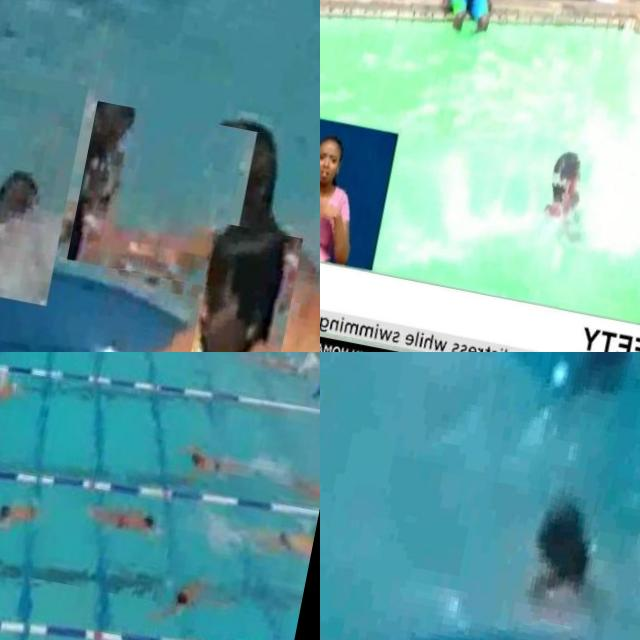drowning: (496, 454, 640, 640), (0, 46, 88, 308), (526, 139, 608, 257)
out of water: (432, 0, 514, 38)
swimming: (64, 100, 255, 292), (178, 221, 303, 352), (178, 438, 255, 496), (142, 567, 212, 622), (92, 498, 168, 540), (0, 485, 51, 540), (254, 518, 316, 558), (252, 352, 298, 377), (0, 368, 26, 407)
